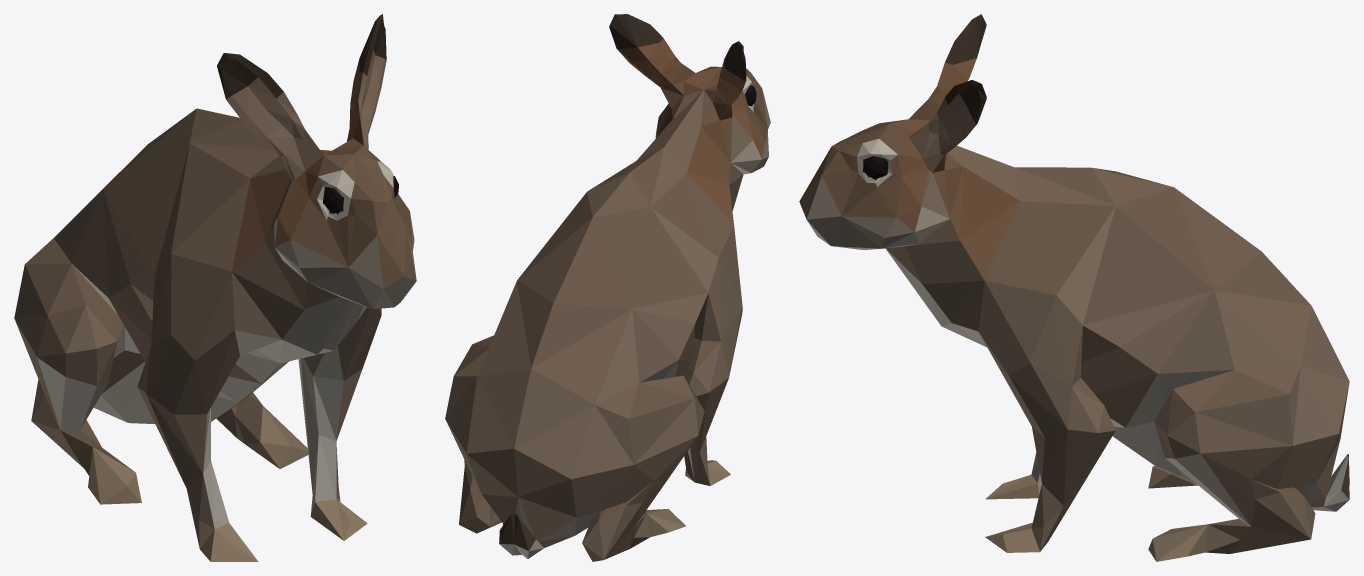
File: rabbit.glb
The picture shows the model from 3 angles, left to right: view 1: azimuth 30°, elevation 25°; view 2: azimuth 150°, elevation 25°; view 3: azimuth 270°, elevation 25°; orthographic projection. The views are drawn at different scales.
Visible parts, largest first — view 1: lod0; view 2: lod0; view 3: lod0.
Boxes of the visible parts, x1,y1,x2,y2 form: lod0: (14, 14, 416, 561); lod0: (445, 14, 770, 561); lod0: (799, 14, 1349, 561).
Size of what is drawn, in the model's own units: 0.1312 by 0.2259 by 0.2388.
